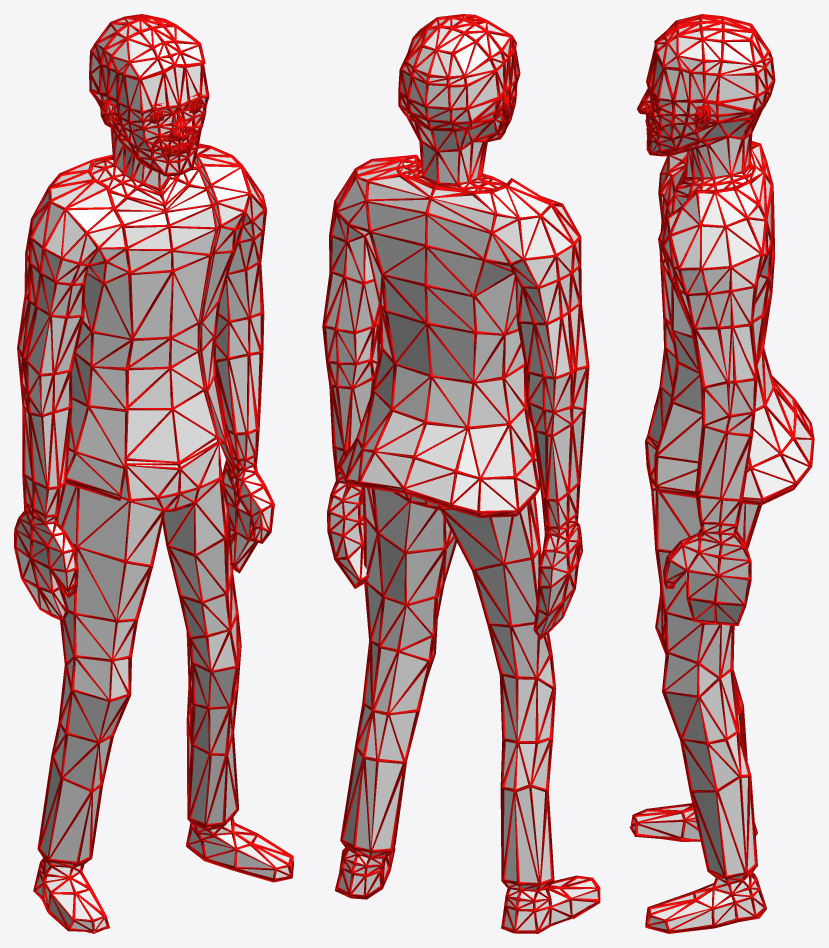
The model's file is elegantIdle_000013.obj.
The picture shows the model from 3 angles, left to right: view 1: azimuth 30°, elevation 25°; view 2: azimuth 150°, elevation 25°; view 3: azimuth 270°, elevation 25°; orthographic projection. The views are drawn at different scales.
Visible parts, largest first — view 1: BaseHuman_Cylinder.002; view 2: BaseHuman_Cylinder.002; view 3: BaseHuman_Cylinder.002.
Part boxes in pixels (x1,y1,x2,y2): BaseHuman_Cylinder.002: (14,14,293,933); BaseHuman_Cylinder.002: (322,14,600,933); BaseHuman_Cylinder.002: (629,14,814,933).
Bounding box in the file's own units: 1.44 × 4.84 × 0.9513.
